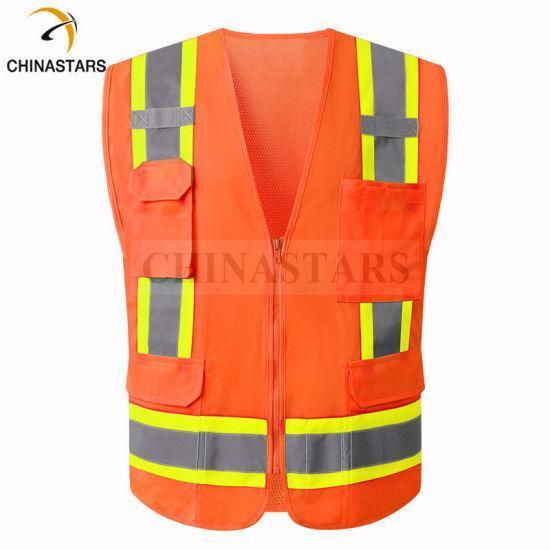vest: (95, 28, 451, 531)
